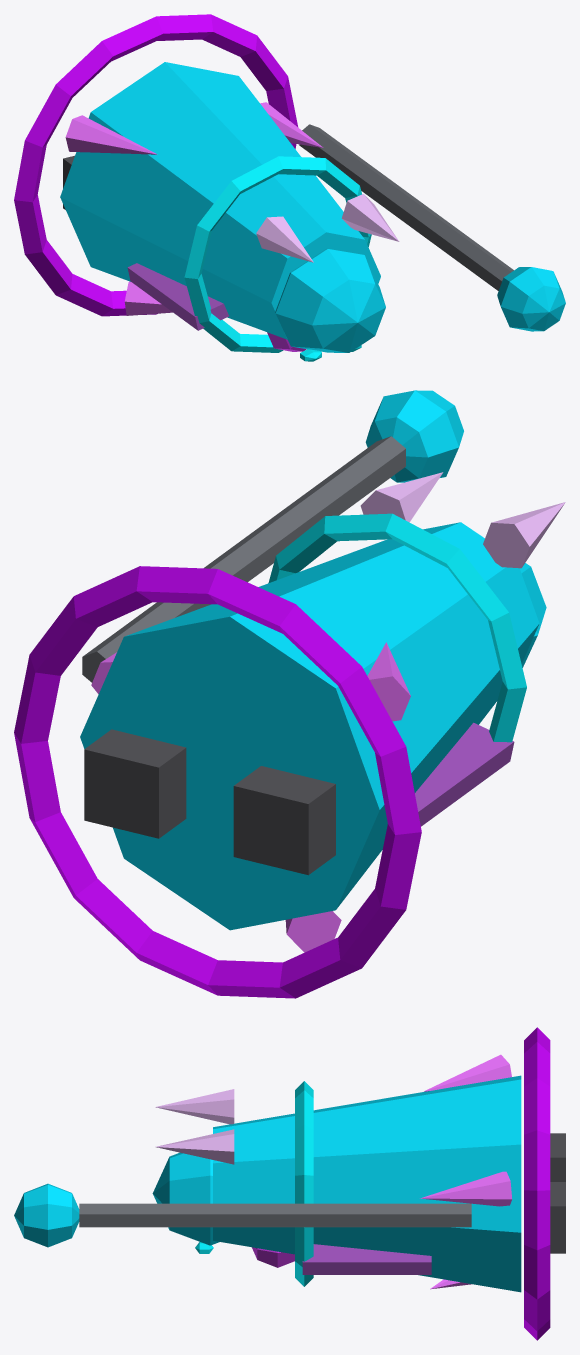
File: TD_Enemy_Mage_Chaos.fbx
The picture shows the model from 3 angles, top to bottom: view 1: azimuth 30°, elevation 25°; view 2: azimuth 150°, elevation 25°; view 3: azimuth 270°, elevation 25°; orthographic projection. The views are drawn at different scales.
Parts seen in each view (by area): view 1: TD_Enemy_Mage_Chaos_RobeBody, TD_Enemy_Mage_Chaos_ChaosAura_Ring, TD_Enemy_Mage_Chaos_Head, TD_Enemy_Mage_Chaos_RobeRing, TD_Enemy_Mage_Chaos_Staff, TD_Enemy_Mage_Chaos_MagicOrb, TD_Enemy_Mage_Chaos_ChaosAccent_01, TD_Enemy_Mage_Chaos_ChaosFlameWisp_02, TD_Enemy_Mage_Chaos_ChaosEnergySpike_01, TD_Enemy_Mage_Chaos_ChaosEnergySpike_02, TD_Enemy_Mage_Chaos_ChaosFlameWisp_03, TD_Enemy_Mage_Chaos_ChaosFlameWisp_01; view 2: TD_Enemy_Mage_Chaos_RobeBody, TD_Enemy_Mage_Chaos_ChaosAura_Ring, TD_Enemy_Mage_Chaos_RobeRing, TD_Enemy_Mage_Chaos_Staff, TD_Enemy_Mage_Chaos_Foot_Left, TD_Enemy_Mage_Chaos_Foot_Right, TD_Enemy_Mage_Chaos_MagicOrb, TD_Enemy_Mage_Chaos_ChaosAccent_01, TD_Enemy_Mage_Chaos_ChaosEnergySpike_01, TD_Enemy_Mage_Chaos_ChaosEnergySpike_02, TD_Enemy_Mage_Chaos_ChaosFlameWisp_02, TD_Enemy_Mage_Chaos_ChaosFlameWisp_03 (+1 smaller); view 3: TD_Enemy_Mage_Chaos_RobeBody, TD_Enemy_Mage_Chaos_Staff, TD_Enemy_Mage_Chaos_ChaosAura_Ring, TD_Enemy_Mage_Chaos_ChaosAccent_02, TD_Enemy_Mage_Chaos_RobeRing, TD_Enemy_Mage_Chaos_MagicOrb, TD_Enemy_Mage_Chaos_Head, TD_Enemy_Mage_Chaos_ChaosFlameWisp_01, TD_Enemy_Mage_Chaos_ChaosEnergySpike_01, TD_Enemy_Mage_Chaos_ChaosEnergySpike_02, TD_Enemy_Mage_Chaos_ChaosFlameWisp_02, TD_Enemy_Mage_Chaos_Foot_Right (+2 smaller).
Boxes of the visible parts, x1,y1,x2,y2 form: TD_Enemy_Mage_Chaos_RobeBody: (60, 62, 380, 339); TD_Enemy_Mage_Chaos_ChaosAura_Ring: (14, 14, 298, 316); TD_Enemy_Mage_Chaos_Head: (275, 248, 385, 352); TD_Enemy_Mage_Chaos_RobeRing: (184, 156, 371, 352); TD_Enemy_Mage_Chaos_Staff: (299, 124, 513, 290); TD_Enemy_Mage_Chaos_MagicOrb: (497, 267, 565, 331); TD_Enemy_Mage_Chaos_ChaosAccent_01: (127, 263, 228, 330); TD_Enemy_Mage_Chaos_ChaosFlameWisp_02: (65, 115, 157, 154); TD_Enemy_Mage_Chaos_ChaosEnergySpike_01: (256, 216, 313, 262); TD_Enemy_Mage_Chaos_ChaosEnergySpike_02: (341, 194, 399, 241); TD_Enemy_Mage_Chaos_ChaosFlameWisp_03: (124, 281, 172, 315); TD_Enemy_Mage_Chaos_ChaosFlameWisp_01: (260, 102, 323, 147); TD_Enemy_Mage_Chaos_RobeBody: (80, 522, 539, 930); TD_Enemy_Mage_Chaos_ChaosAura_Ring: (14, 566, 421, 998); TD_Enemy_Mage_Chaos_RobeRing: (268, 513, 526, 742); TD_Enemy_Mage_Chaos_Staff: (82, 436, 405, 682); TD_Enemy_Mage_Chaos_Foot_Left: (233, 766, 335, 875); TD_Enemy_Mage_Chaos_Foot_Right: (84, 729, 186, 838); TD_Enemy_Mage_Chaos_MagicOrb: (365, 390, 463, 482); TD_Enemy_Mage_Chaos_ChaosAccent_01: (415, 722, 514, 826); TD_Enemy_Mage_Chaos_ChaosEnergySpike_01: (483, 502, 565, 568); TD_Enemy_Mage_Chaos_ChaosEnergySpike_02: (360, 472, 443, 522); TD_Enemy_Mage_Chaos_ChaosFlameWisp_02: (367, 642, 410, 721); TD_Enemy_Mage_Chaos_ChaosFlameWisp_03: (285, 911, 341, 952); TD_Enemy_Mage_Chaos_RobeBody: (213, 1075, 521, 1292); TD_Enemy_Mage_Chaos_Staff: (79, 1203, 471, 1227); TD_Enemy_Mage_Chaos_ChaosAura_Ring: (524, 1027, 550, 1340); TD_Enemy_Mage_Chaos_ChaosAccent_02: (302, 1244, 431, 1274); TD_Enemy_Mage_Chaos_RobeRing: (295, 1081, 313, 1286); TD_Enemy_Mage_Chaos_MagicOrb: (14, 1183, 79, 1247); TD_Enemy_Mage_Chaos_Head: (152, 1152, 219, 1245); TD_Enemy_Mage_Chaos_ChaosFlameWisp_01: (420, 1171, 512, 1206); TD_Enemy_Mage_Chaos_ChaosEnergySpike_01: (155, 1089, 234, 1124); TD_Enemy_Mage_Chaos_ChaosEnergySpike_02: (155, 1129, 234, 1164); TD_Enemy_Mage_Chaos_ChaosFlameWisp_02: (424, 1054, 511, 1091); TD_Enemy_Mage_Chaos_Foot_Right: (550, 1182, 565, 1253).
Bounding box in the file's own units: 0.615 × 0.6 × 1.06.
